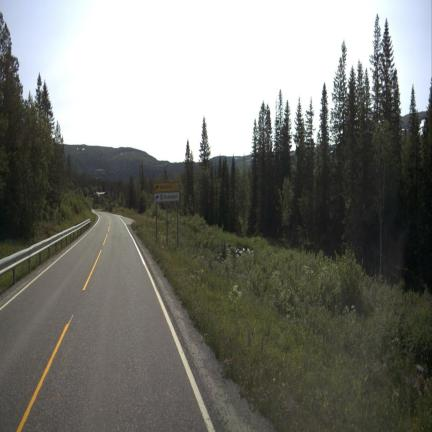Road: (0, 213, 212, 430)
